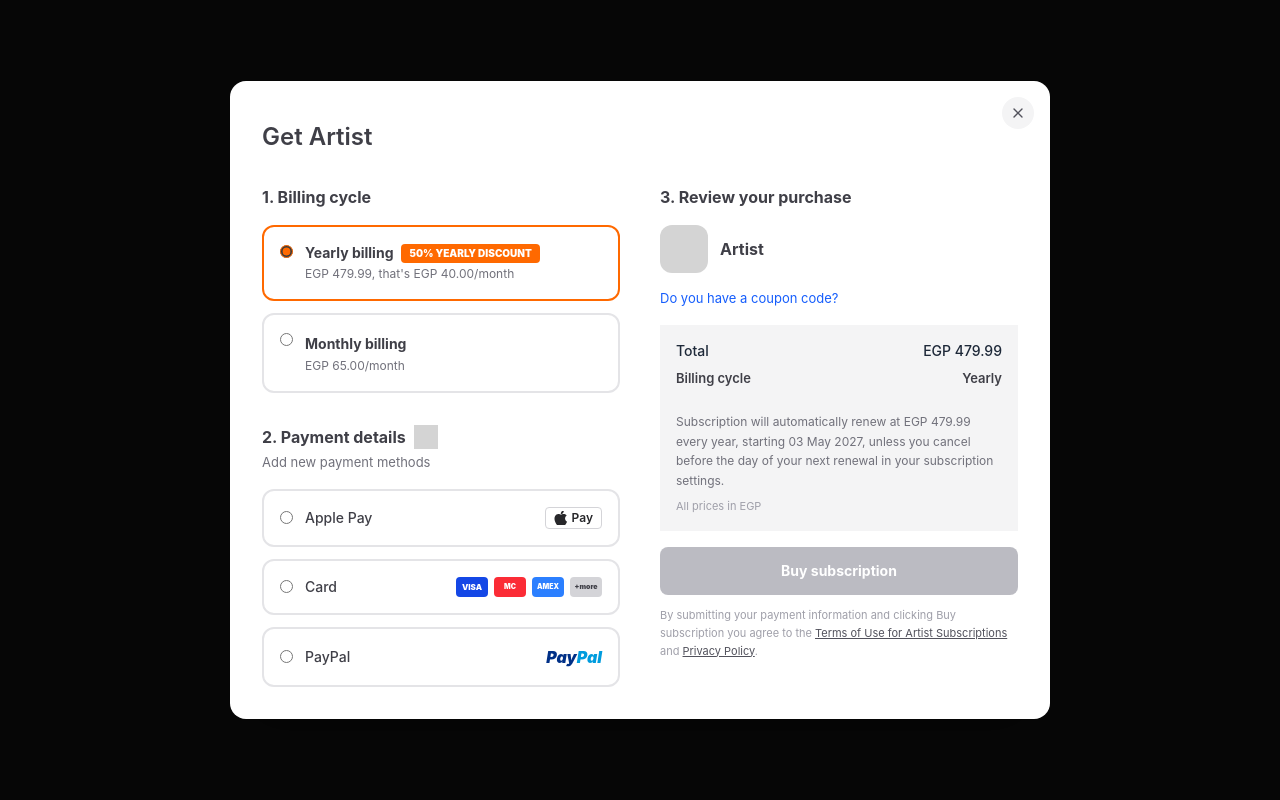
it: CheckoutModal › selects card payment and shows inputs
Click the text "Card" at (321, 586), box [305, 578, 337, 595]
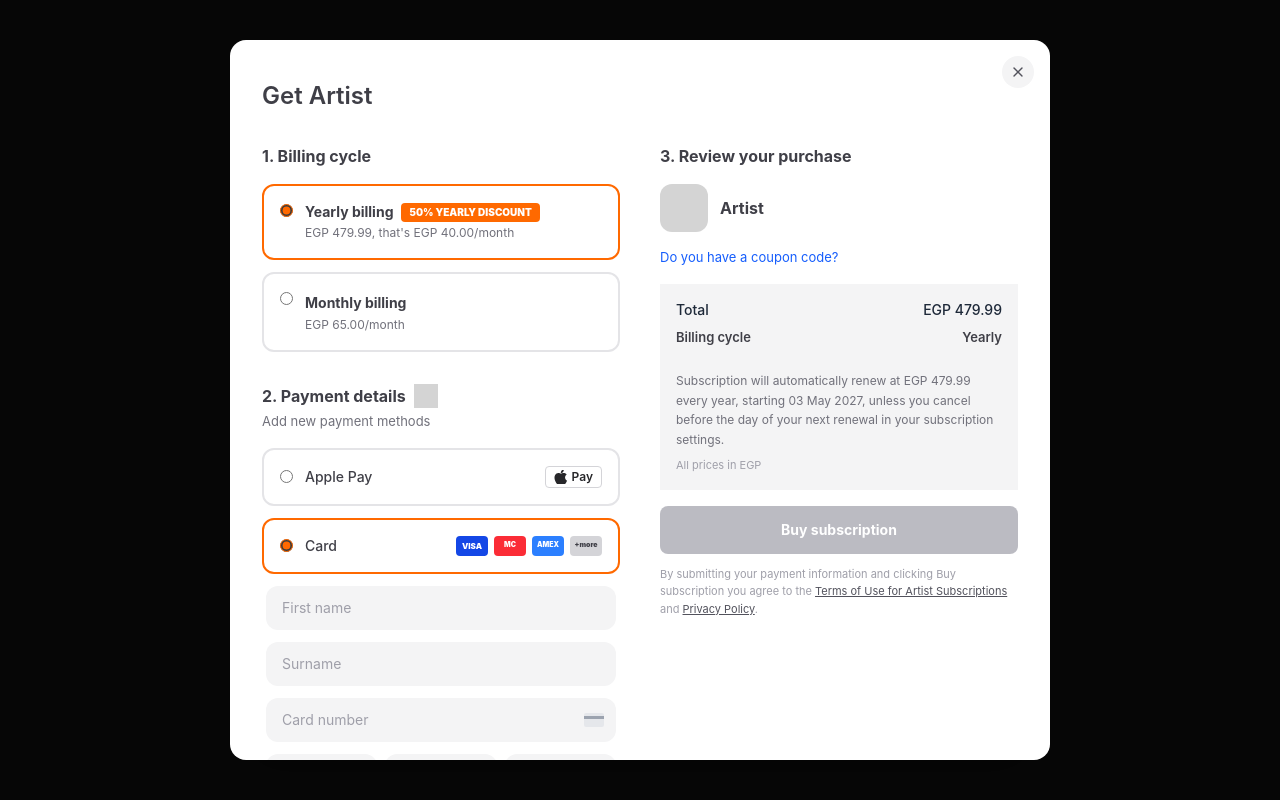
Now the field with placeholder "First name" is shown, box [266, 586, 616, 630]
Now the field with placeholder "Card number" is shown, box [266, 698, 616, 742]
